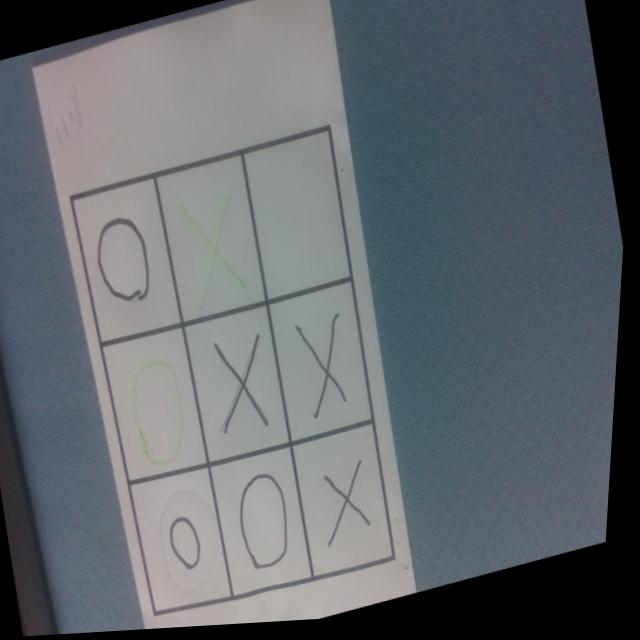null: (238, 131, 361, 305)
o: (122, 355, 205, 481), (234, 470, 307, 579), (89, 213, 162, 312), (170, 513, 215, 578)
table: (46, 124, 427, 636)
x: (181, 192, 254, 303), (211, 333, 280, 440), (294, 314, 361, 423), (321, 461, 382, 551)
